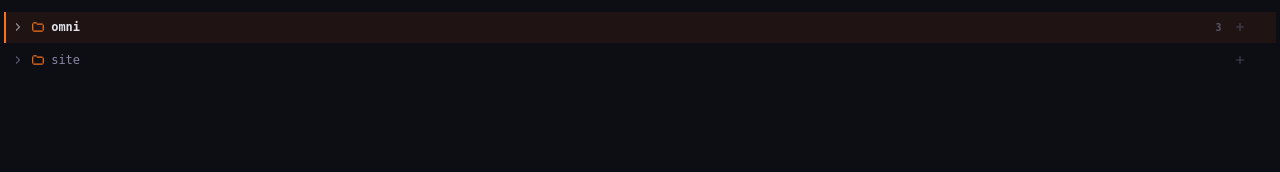
Scenario: lateral › o + da pasta pede uma conversa nova naquele projeto e deixa a pasta aberta
The width and height of the screenshot is (1280, 172).
What coordinates should you click on to do the following:
click the button named "Nova conversa em site"
I would click on:
 (1240, 60)
Its box is [1228, 45, 1252, 76].
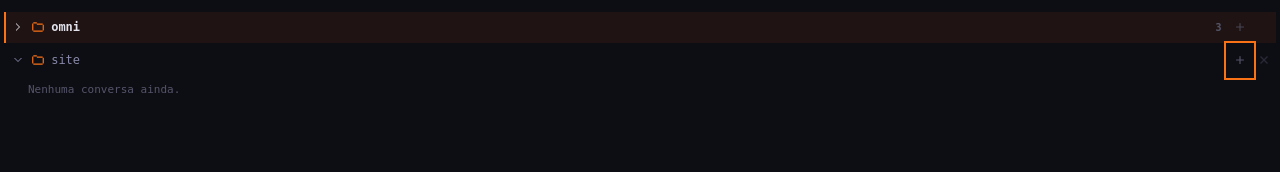
expect the list named "Conversas de site" is shown: met, box [28, 83, 180, 96]
